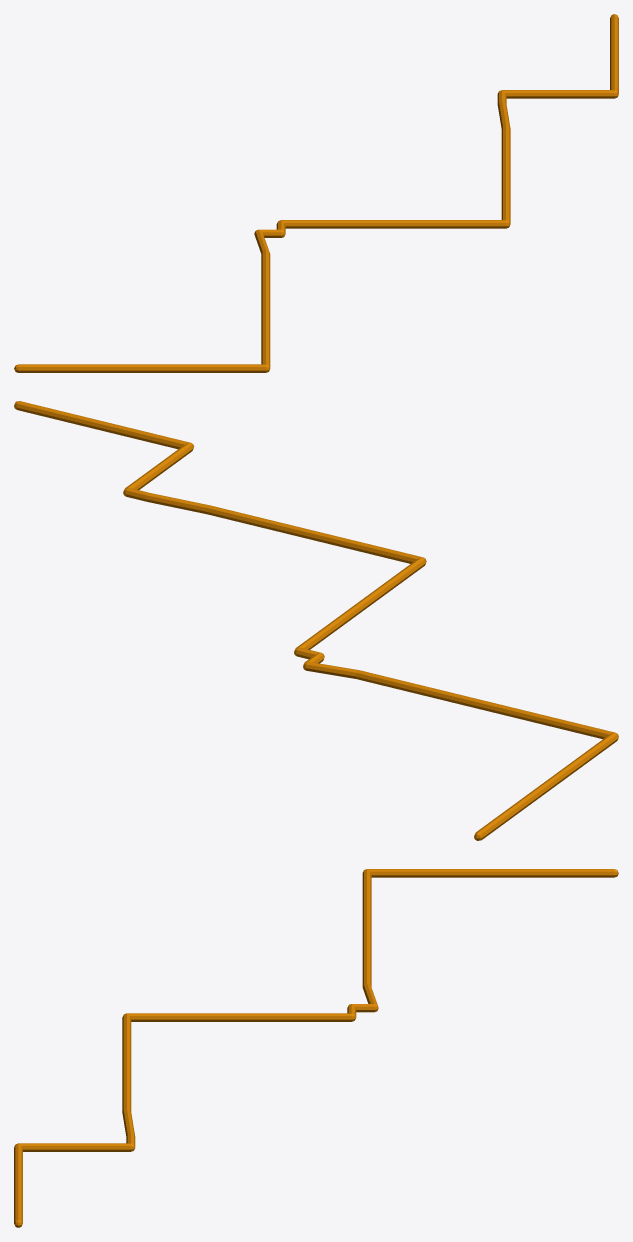
3 renders of one model, top to bottom at view 1: azimuth 90°, elevation 25°; view 2: azimuth 150°, elevation 25°; view 3: azimuth 270°, elevation 25°, orthographic. The views are drawn at different scales.
Size of the model in its own units: 1862 by 20 by 1345.
